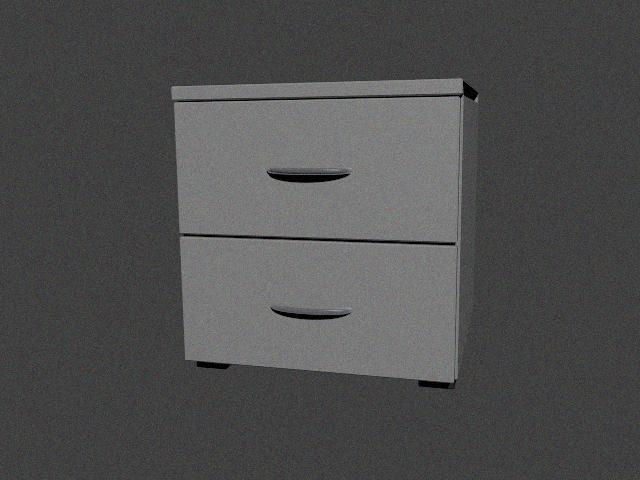cabinet_door: (177, 100, 459, 240), (183, 240, 456, 372)
handle: (262, 158, 358, 189), (269, 299, 361, 327)
